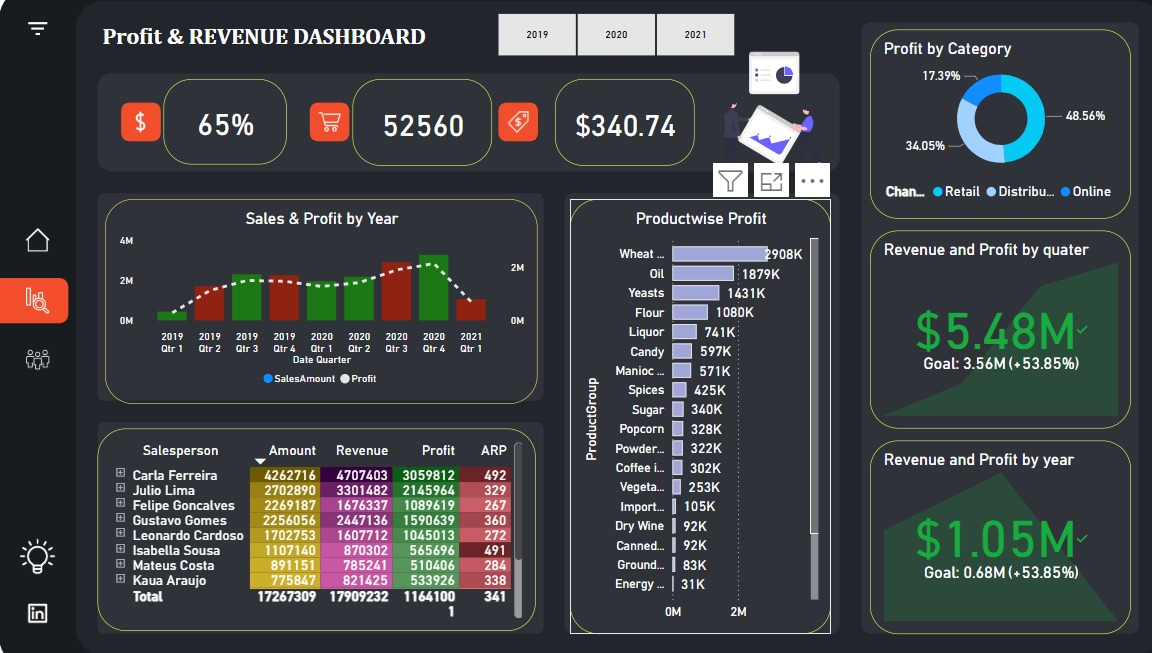

This screenshot's page, from the dashboard's own definition file:
{"tool":"powerbi","page":{"name":"Profit Analysis","canvas":[1280,720],"ordinal":3},"visuals":[{"type":"pivotTable","fields":{"Rows":["Sales Person.Salesperson","Date.Date.Variation.Date Hierarchy.Year","Date.Date.Variation.Date Hierarchy.Quarter","Date.Date.Variation.Date Hierarchy.Month","Date.Date.Variation.Date Hierarchy.Day"],"Values":["Budget.Amount","Sales.Revenue","Sales.Profit","KeyMeasures.ATP"]},"box":[138.4,462.9,464.5,214.7],"z":0},{"type":"textbox","box":[138.3,26.7,386.7,63.3],"z":1000},{"type":"card","fields":{"Values":["KeyMeasures.Profit %"]},"box":[208.4,92.3,130.4,90.7],"z":2000},{"type":"card","fields":{"Values":["Sales.orders"]},"box":[408.8,92.3,147.9,92.3],"z":3000},{"type":"card","fields":{"Values":["Sales.ATP"]},"box":[623.5,92.3,147.9,92.3],"z":4000},{"type":"lineClusteredColumnComboChart","title":"Sales & Profit by Year ","fields":{"Y":["Sales.Revenue"],"Category":["Date.Date.Variation.Date Hierarchy.Year","Date.Date.Variation.Date Hierarchy.Quarter","Date.Date.Variation.Date Hierarchy.Month","Date.Date.Variation.Date Hierarchy.Day"],"Y2":["Sales.Profit"]},"box":[145.7,219.1,458.6,217.1],"z":5000},{"type":"image","box":[47.7,572.6,54.1,50.9],"z":6000},{"type":"kpi","fields":{"Indicator":["KeyMeasures.Revenue"],"TrendLine":["Date.year"],"Goal":["Sales.Profit"]},"box":[957.5,475.6,276.8,205.2],"z":8000},{"type":"kpi","fields":{"Indicator":["KeyMeasures.Revenue"],"TrendLine":["Date.quater"],"Goal":["Sales.Profit"]},"box":[957.5,252.9,276.8,210],"z":9000},{"type":"shape","box":[36.3,298.6,74.2,59.4],"z":10000},{"type":"slicer","fields":{"Values":["Date.year"]},"box":[538.3,16.7,300,58.3],"z":11000},{"type":"actionButton","box":[46.1,240.2,55.7,47.7],"z":12000},{"type":"barChart","title":"Productwise Profit","fields":{"Category":["Products.ProductGroup"],"Y":["Sales.Profit"]},"box":[639.4,219.5,276.8,461.3],"z":13000},{"type":"donutChart","title":"Profit by Category","fields":{"Y":["Sales.Profit"],"Category":["Sales.Channel"]},"box":[957.5,39.8,276.8,200.4],"z":13001}]}

Visuals, with their boxes on the page's 1280x720 design canvas (x1, y1, x2, y2). These are canvas units, not pixel positions in the 1152x653 screenshot, which may show the page scaled, cropped or inside an application window:
pivotTable - Sales Person.Salesperson x Date.Date.Variation.Date Hierarchy.Year: (x1=138, y1=463, x2=603, y2=678)
textbox: (x1=138, y1=27, x2=525, y2=90)
card - KeyMeasures.Profit %: (x1=208, y1=92, x2=339, y2=183)
card - Sales.orders: (x1=409, y1=92, x2=557, y2=185)
card - Sales.ATP: (x1=624, y1=92, x2=771, y2=185)
"Sales & Profit by Year " lineClusteredColumnComboChart: (x1=146, y1=219, x2=604, y2=436)
image: (x1=48, y1=573, x2=102, y2=624)
kpi - KeyMeasures.Revenue x Date.year: (x1=958, y1=476, x2=1234, y2=681)
kpi - KeyMeasures.Revenue x Date.quater: (x1=958, y1=253, x2=1234, y2=463)
shape: (x1=36, y1=299, x2=110, y2=358)
slicer - Date.year: (x1=538, y1=17, x2=838, y2=75)
actionButton: (x1=46, y1=240, x2=102, y2=288)
"Productwise Profit" barChart: (x1=639, y1=220, x2=916, y2=681)
"Profit by Category" donutChart: (x1=958, y1=40, x2=1234, y2=240)
